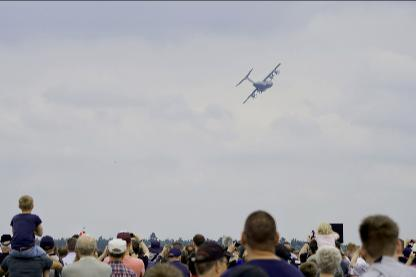A400M: (236, 63, 282, 103)
